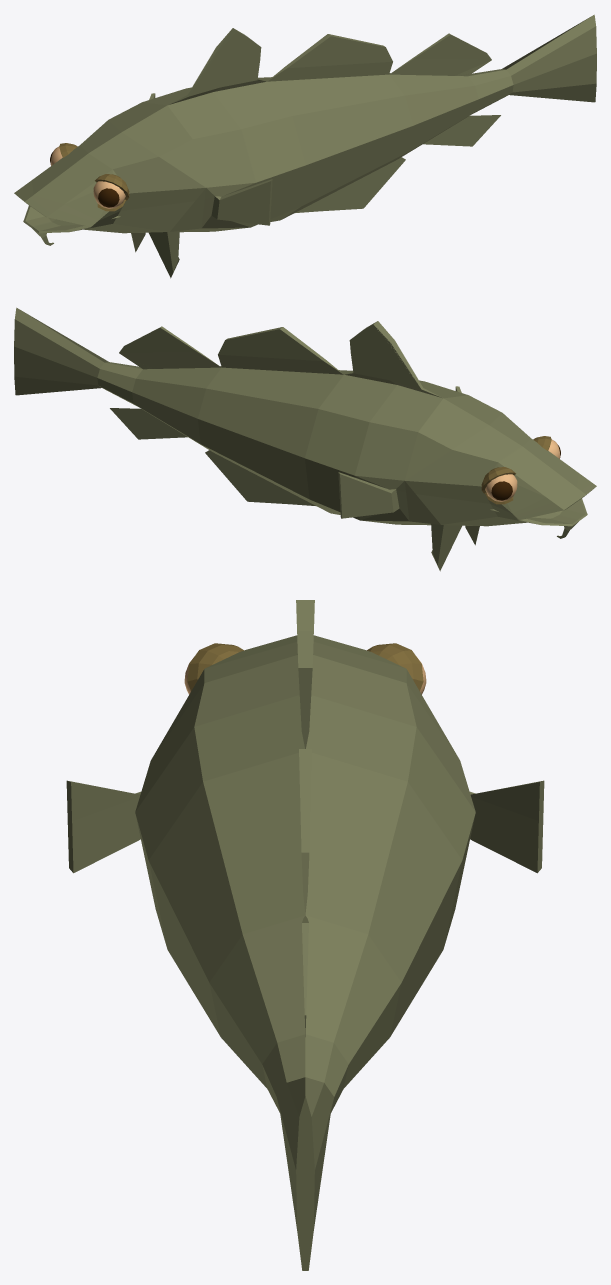
Rendered from følgefiskmedlæber.fbx.
3 views of the same model, one above another, from view 1: azimuth 30°, elevation 25°; view 2: azimuth 150°, elevation 25°; view 3: azimuth 270°, elevation 25° (orthographic). The views are drawn at different scales.
Visible parts, largest first — view 1: Torsk; view 2: Torsk; view 3: Torsk.
Boxes of the visible parts, left/top/right/bottom form: Torsk: left=14, top=14, right=596, bottom=278; Torsk: left=14, top=307, right=596, bottom=571; Torsk: left=66, top=600, right=544, bottom=1270.
Bounding box in the file's own units: 478 × 173 × 173.
